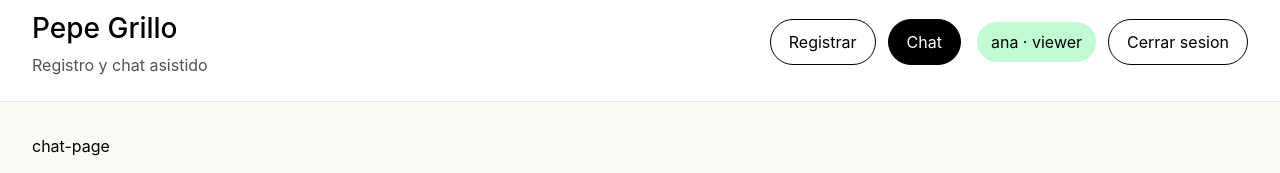
Test: AppShell › logs out the active user and redirects to register
This screenshot has width=1280, height=173.
Expected: the text "ana · viewer" is shown, [977,22,1096,62]
Expected: the text "chat-page" is shown, [32,136,110,156]
Click the button "Cerrar sesion". click: (1178, 42)
box: [1108,19,1248,65]
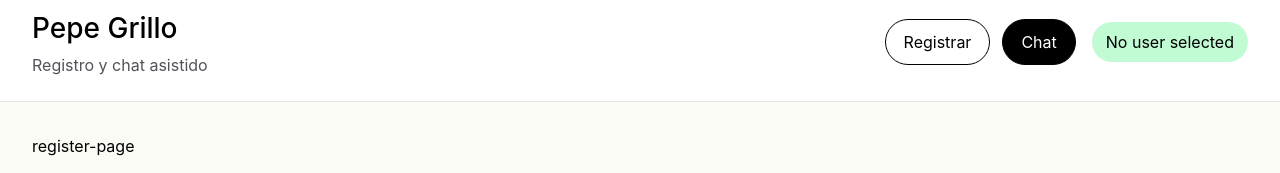
Now the text "register-page" is shown, box [32,136,134,156]
Now the text "No user selected" is shown, box [1092,22,1248,62]
